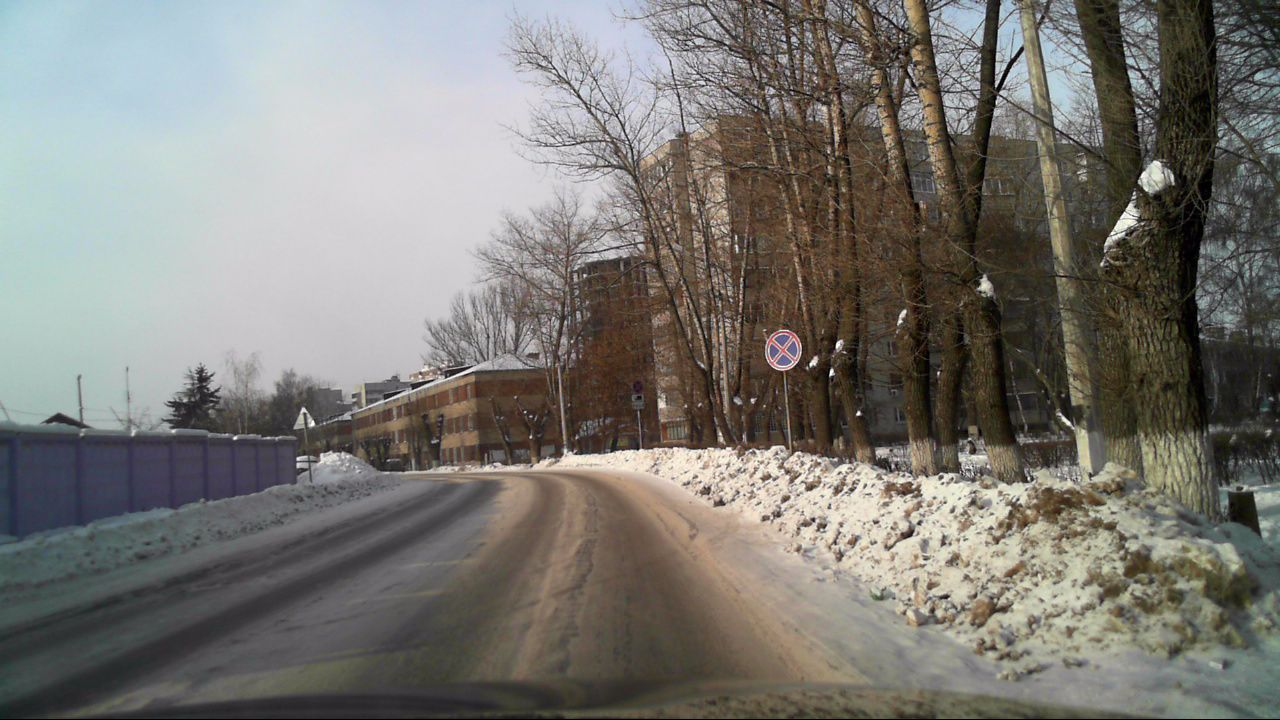No Parking: (764, 329, 801, 370)
